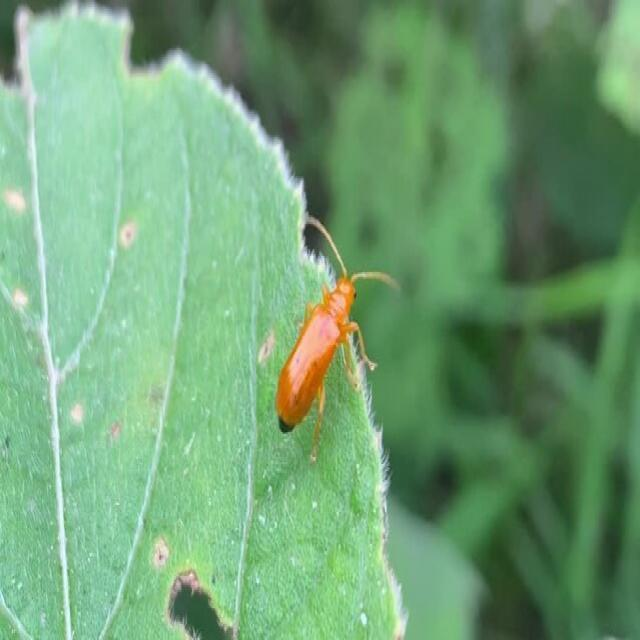Pumpkin Beetle: (272, 203, 419, 480)
